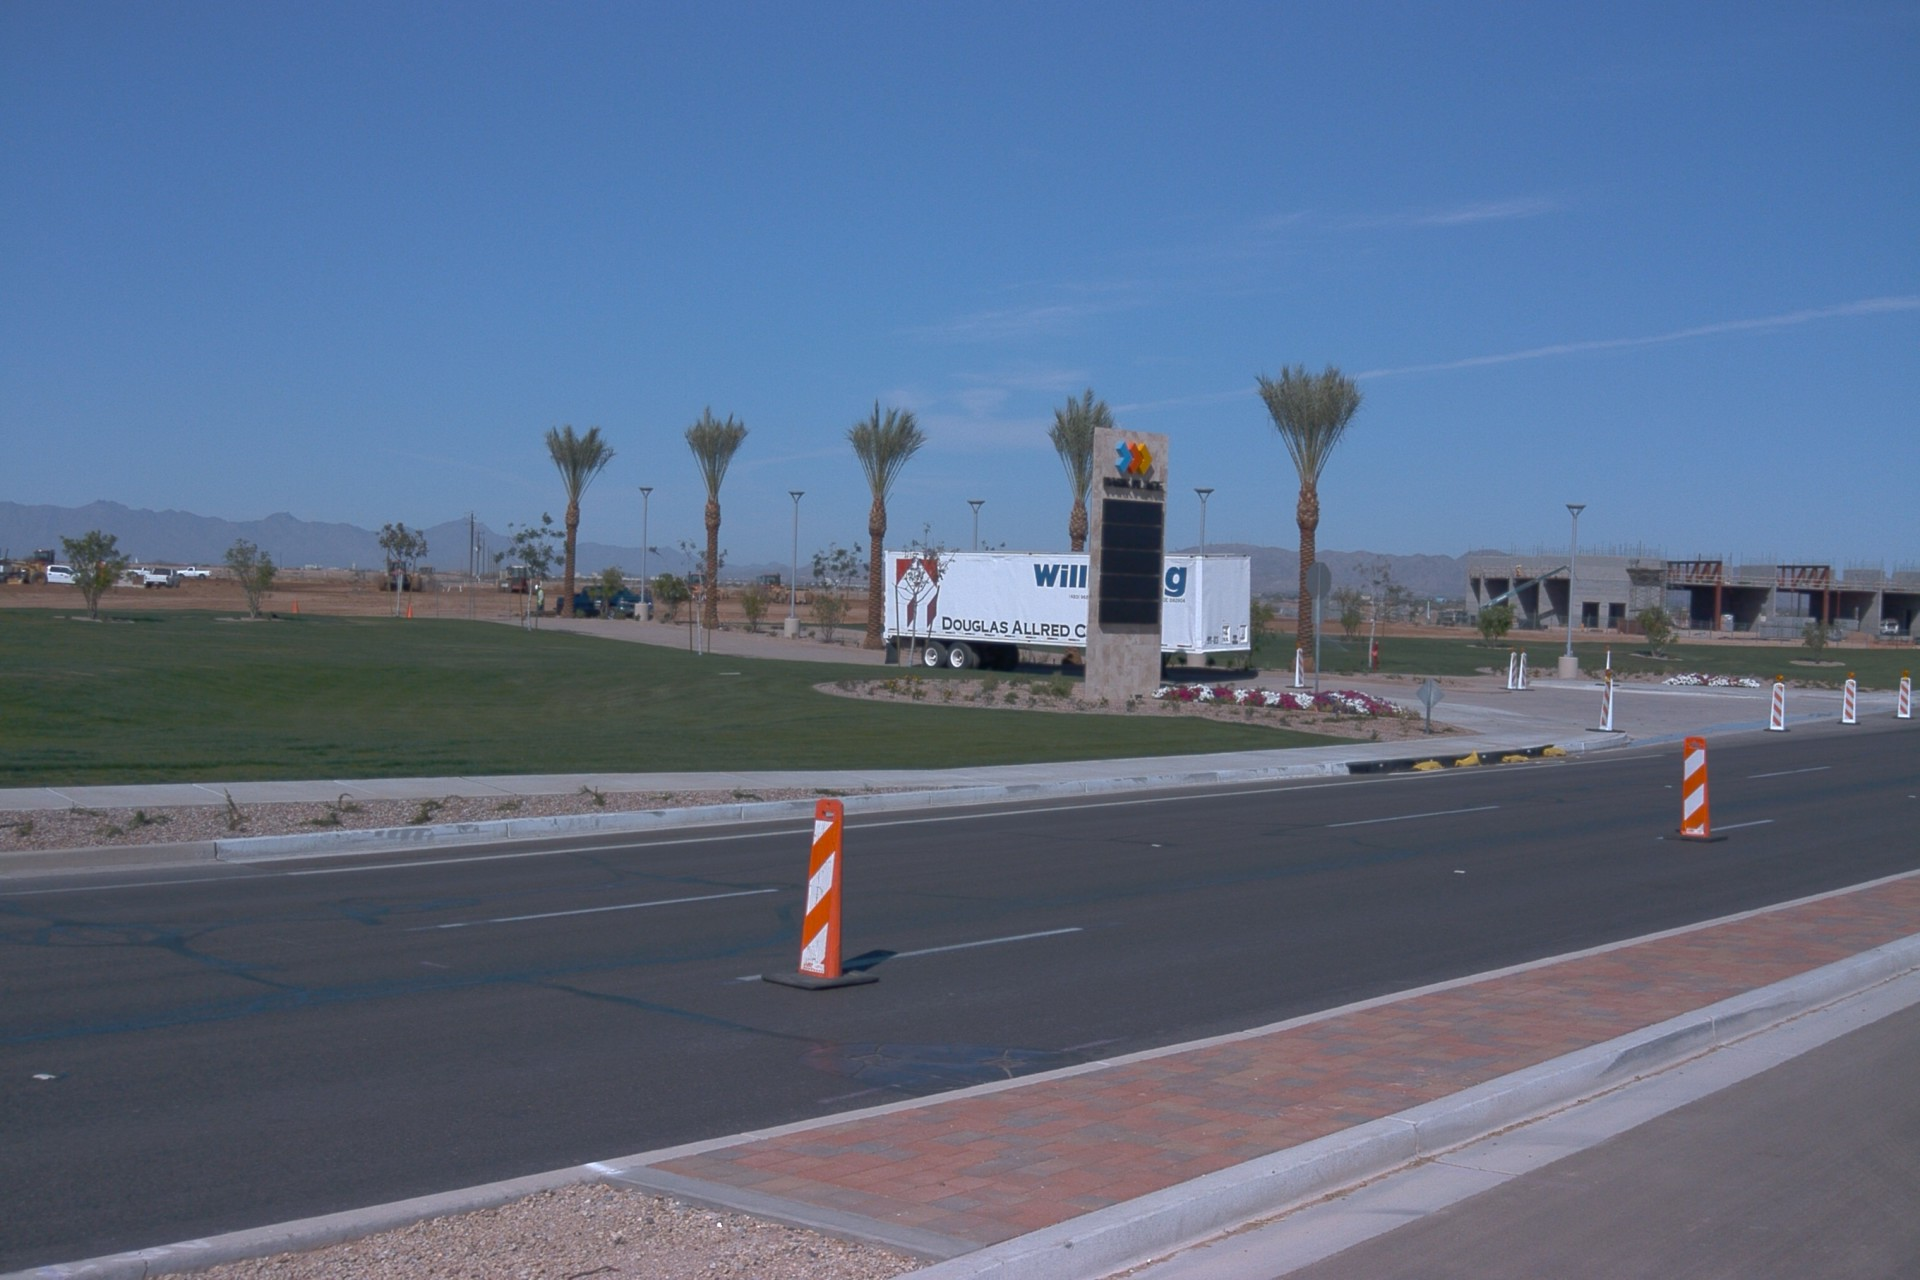TYPE_PEDESTRIAN: (535, 582, 549, 614)
TYPE_VEHICLE: (877, 543, 1257, 668), (1480, 562, 1573, 621), (560, 578, 657, 619), (2, 544, 60, 588), (377, 559, 423, 593), (492, 567, 542, 598), (42, 565, 93, 587), (144, 572, 189, 593), (171, 568, 214, 582), (419, 567, 438, 585), (126, 567, 150, 580)
